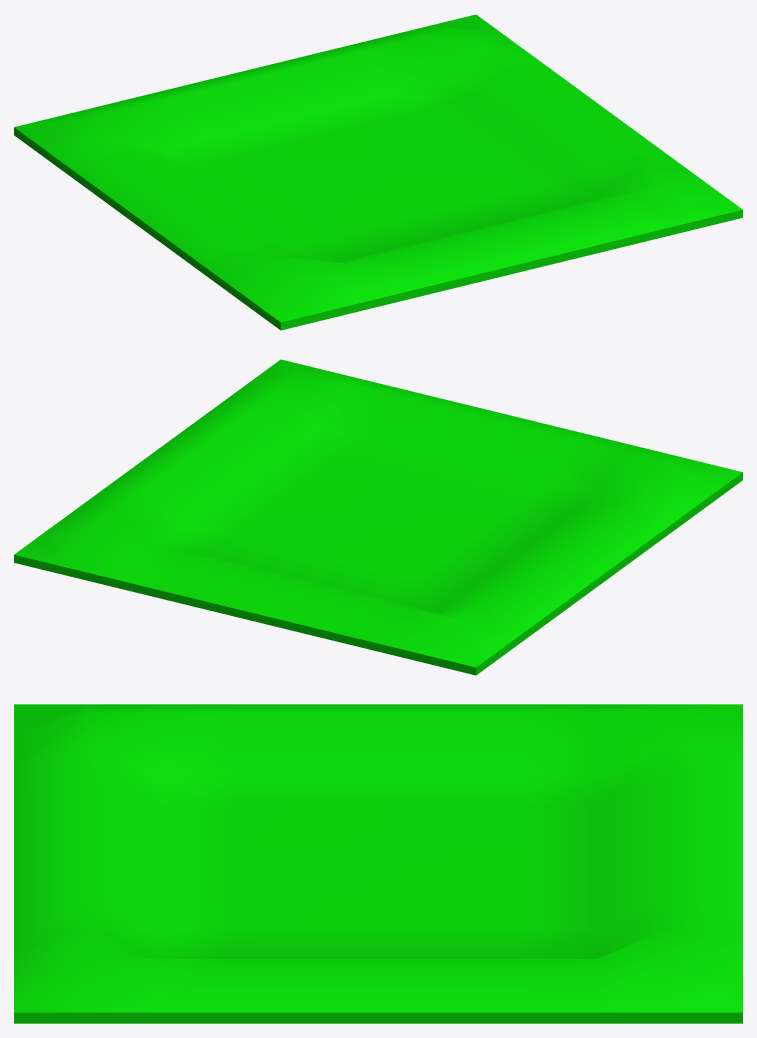
The model's file is lake-tile.fbx.
3 views of the same model, one above another, from view 1: azimuth 30°, elevation 25°; view 2: azimuth 150°, elevation 25°; view 3: azimuth 270°, elevation 25° (orthographic). The views are drawn at different scales.
Visible parts, largest first — view 1: ground2; view 2: ground2; view 3: ground2.
Part boxes in pixels (<box>): ground2: <box>14,14,742,330</box>; ground2: <box>14,359,742,675</box>; ground2: <box>14,704,742,1023</box>.
Bounding box in the file's own units: 1300 × 74.6 × 1300.
